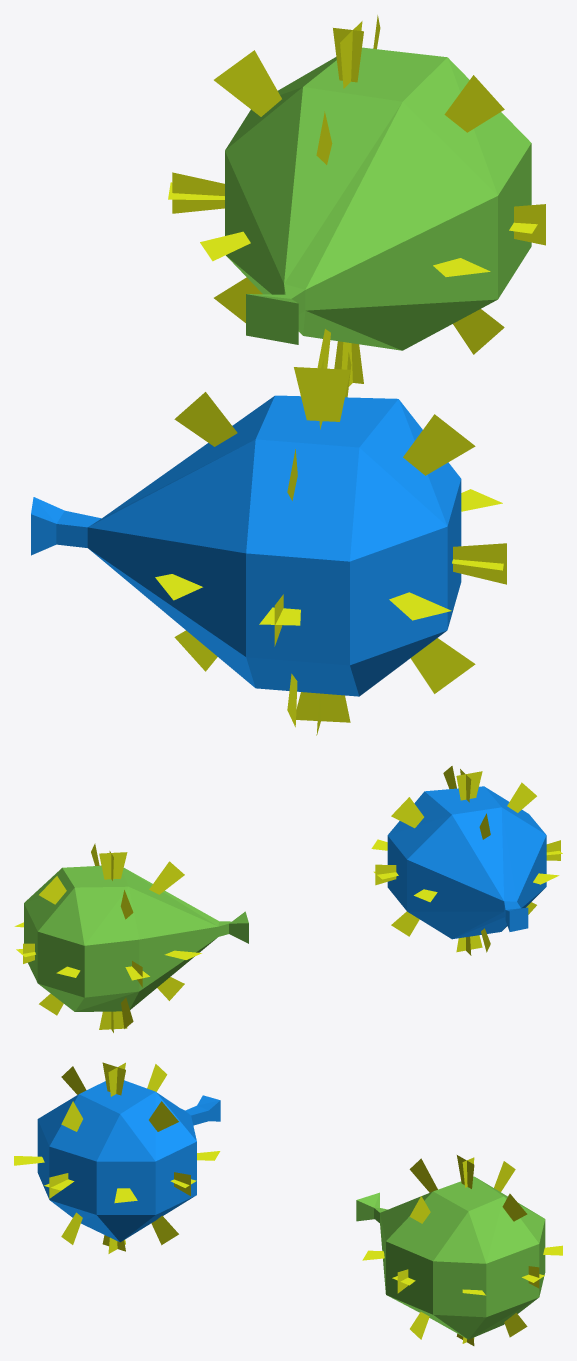
The model's file is obj_party_balloon_15_0.obj.
3 views of the same model, one above another, from view 1: azimuth 30°, elevation 25°; view 2: azimuth 150°, elevation 25°; view 3: azimuth 270°, elevation 25° (orthographic). The views are drawn at different scales.
Bounding box in the file's own units: 0.5938 × 0.2656 × 0.7266.
